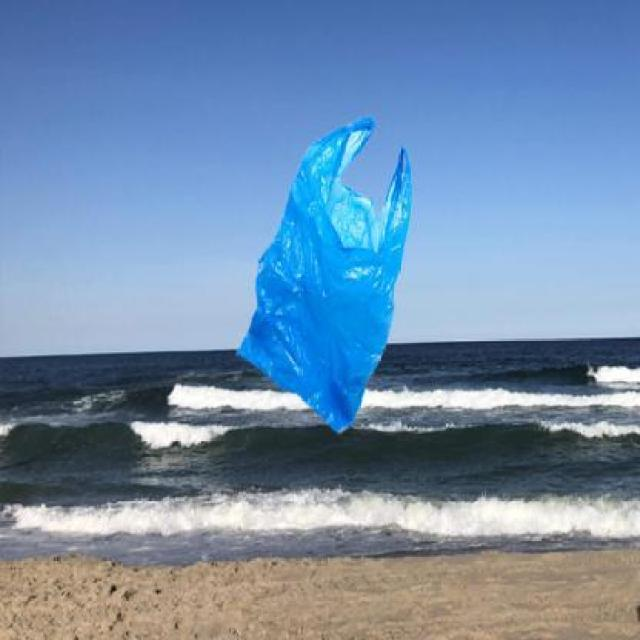plastic bag: (232, 117, 416, 452)
